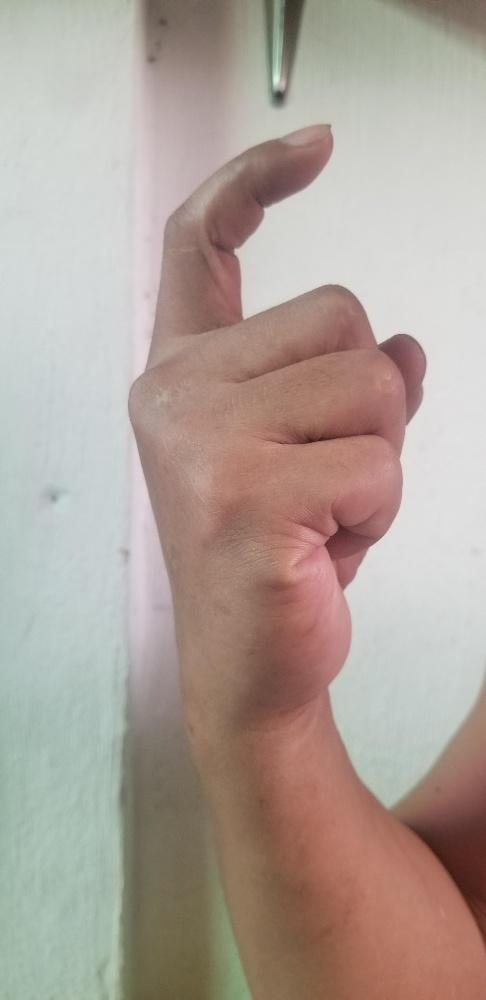x: (124, 118, 431, 691)
